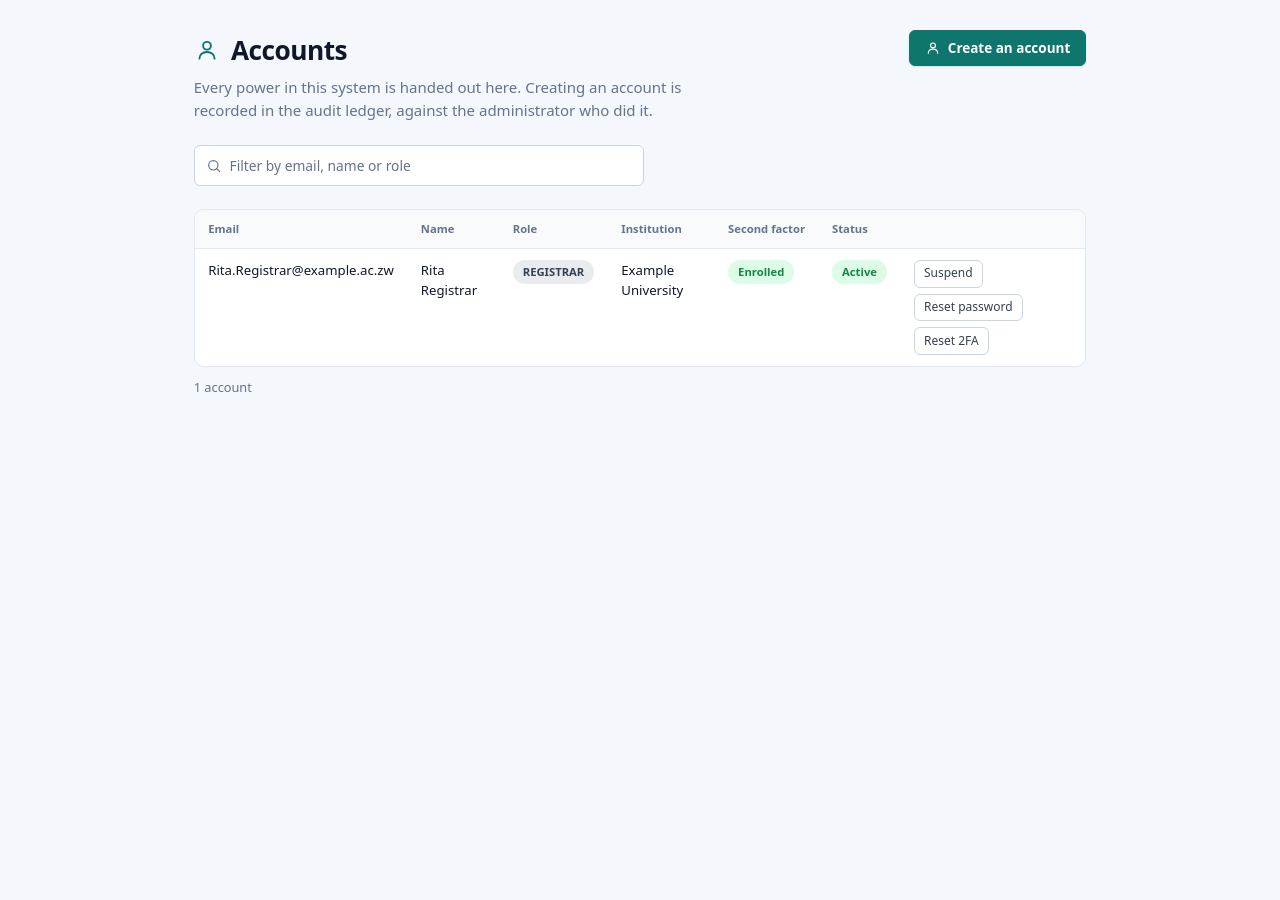
it: UserListComponent › the row actions › asks before it does anything, and sends nothing until it is confirmed
The width and height of the screenshot is (1280, 900).
Click the button "Suspend".
click(948, 274)  # box left=914, top=260, right=983, bottom=288
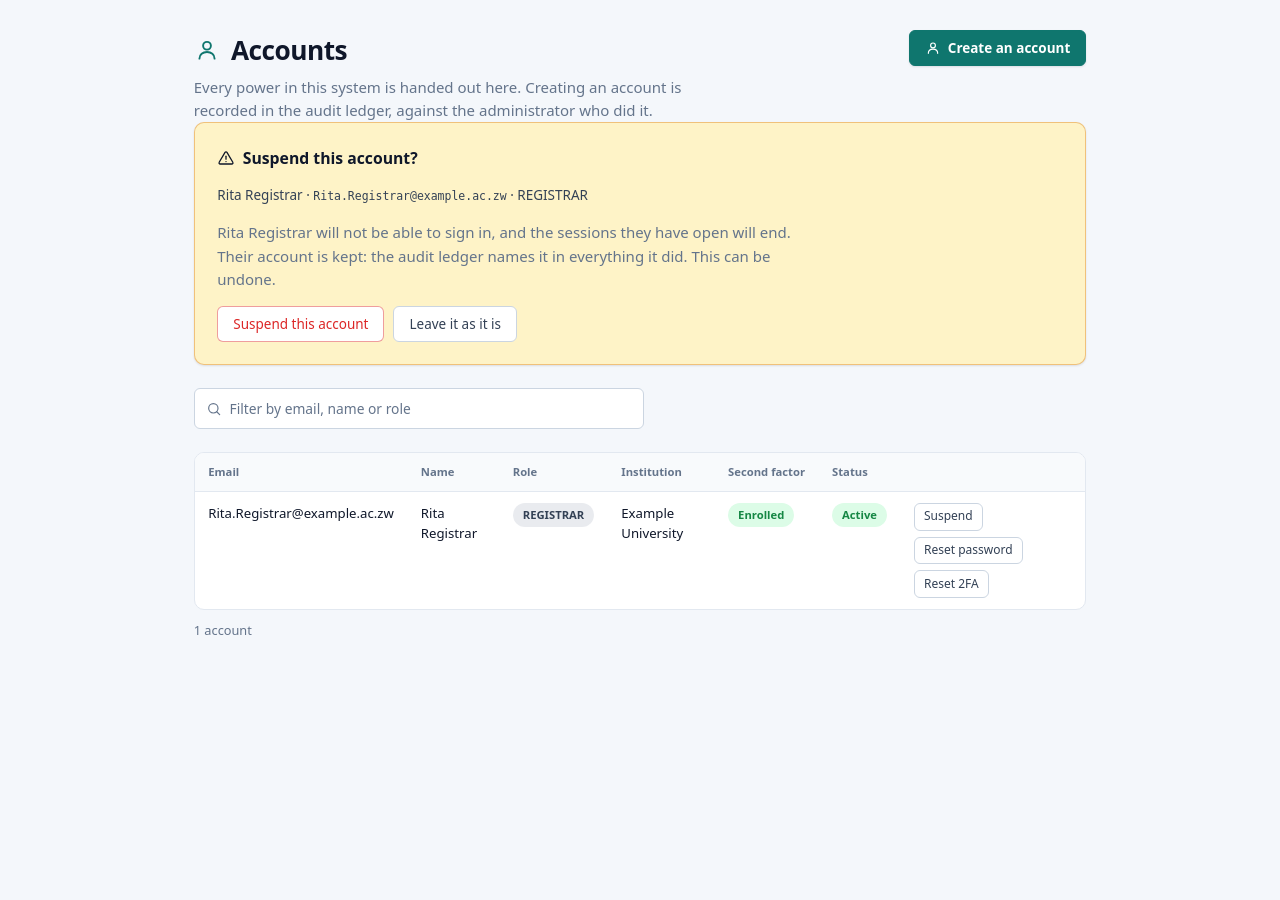
Expected: the text "Rita Registrar" is shown, left=217, top=186, right=313, bottom=204
Now the text "Suspend this account?" is shown, box left=243, top=146, right=418, bottom=170
